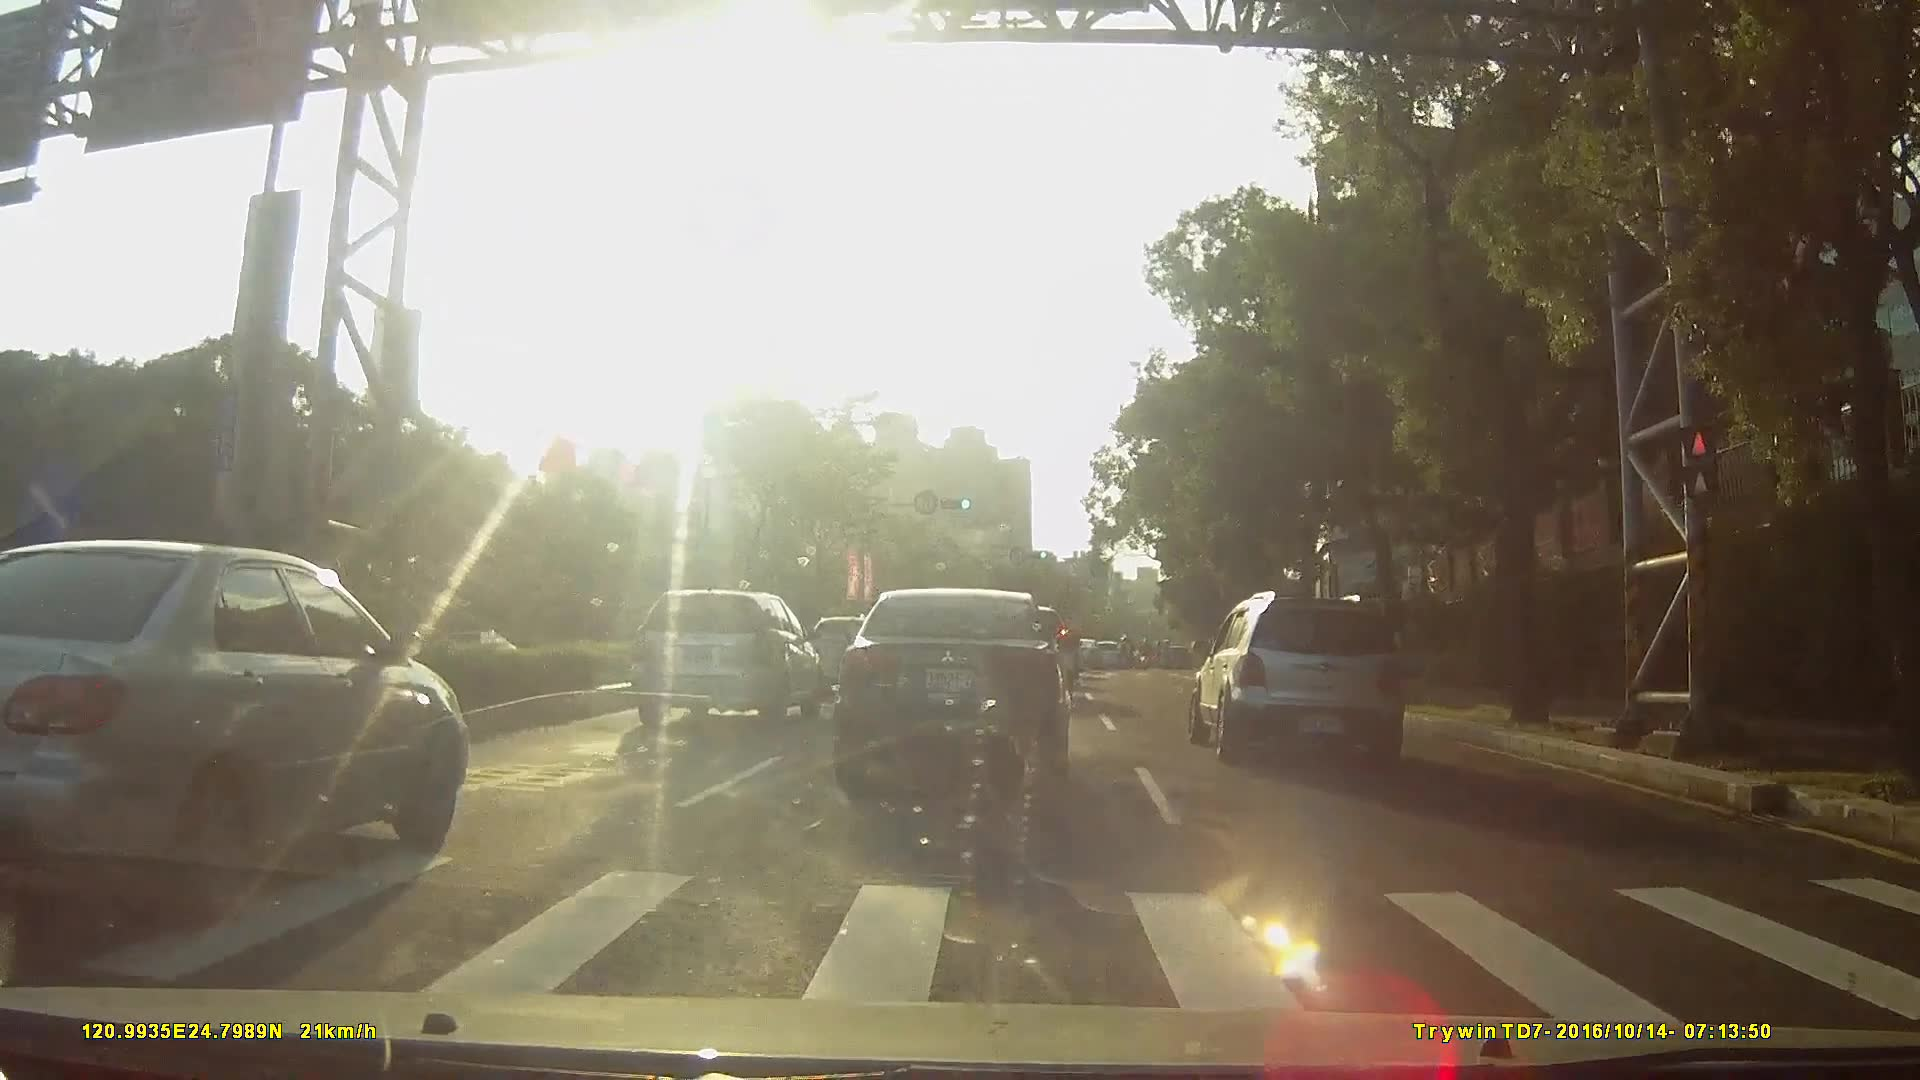vehicle: (1, 535, 479, 920), (836, 588, 1068, 800), (1180, 595, 1422, 781), (622, 593, 822, 731), (1063, 642, 1098, 678), (1083, 645, 1120, 676)
